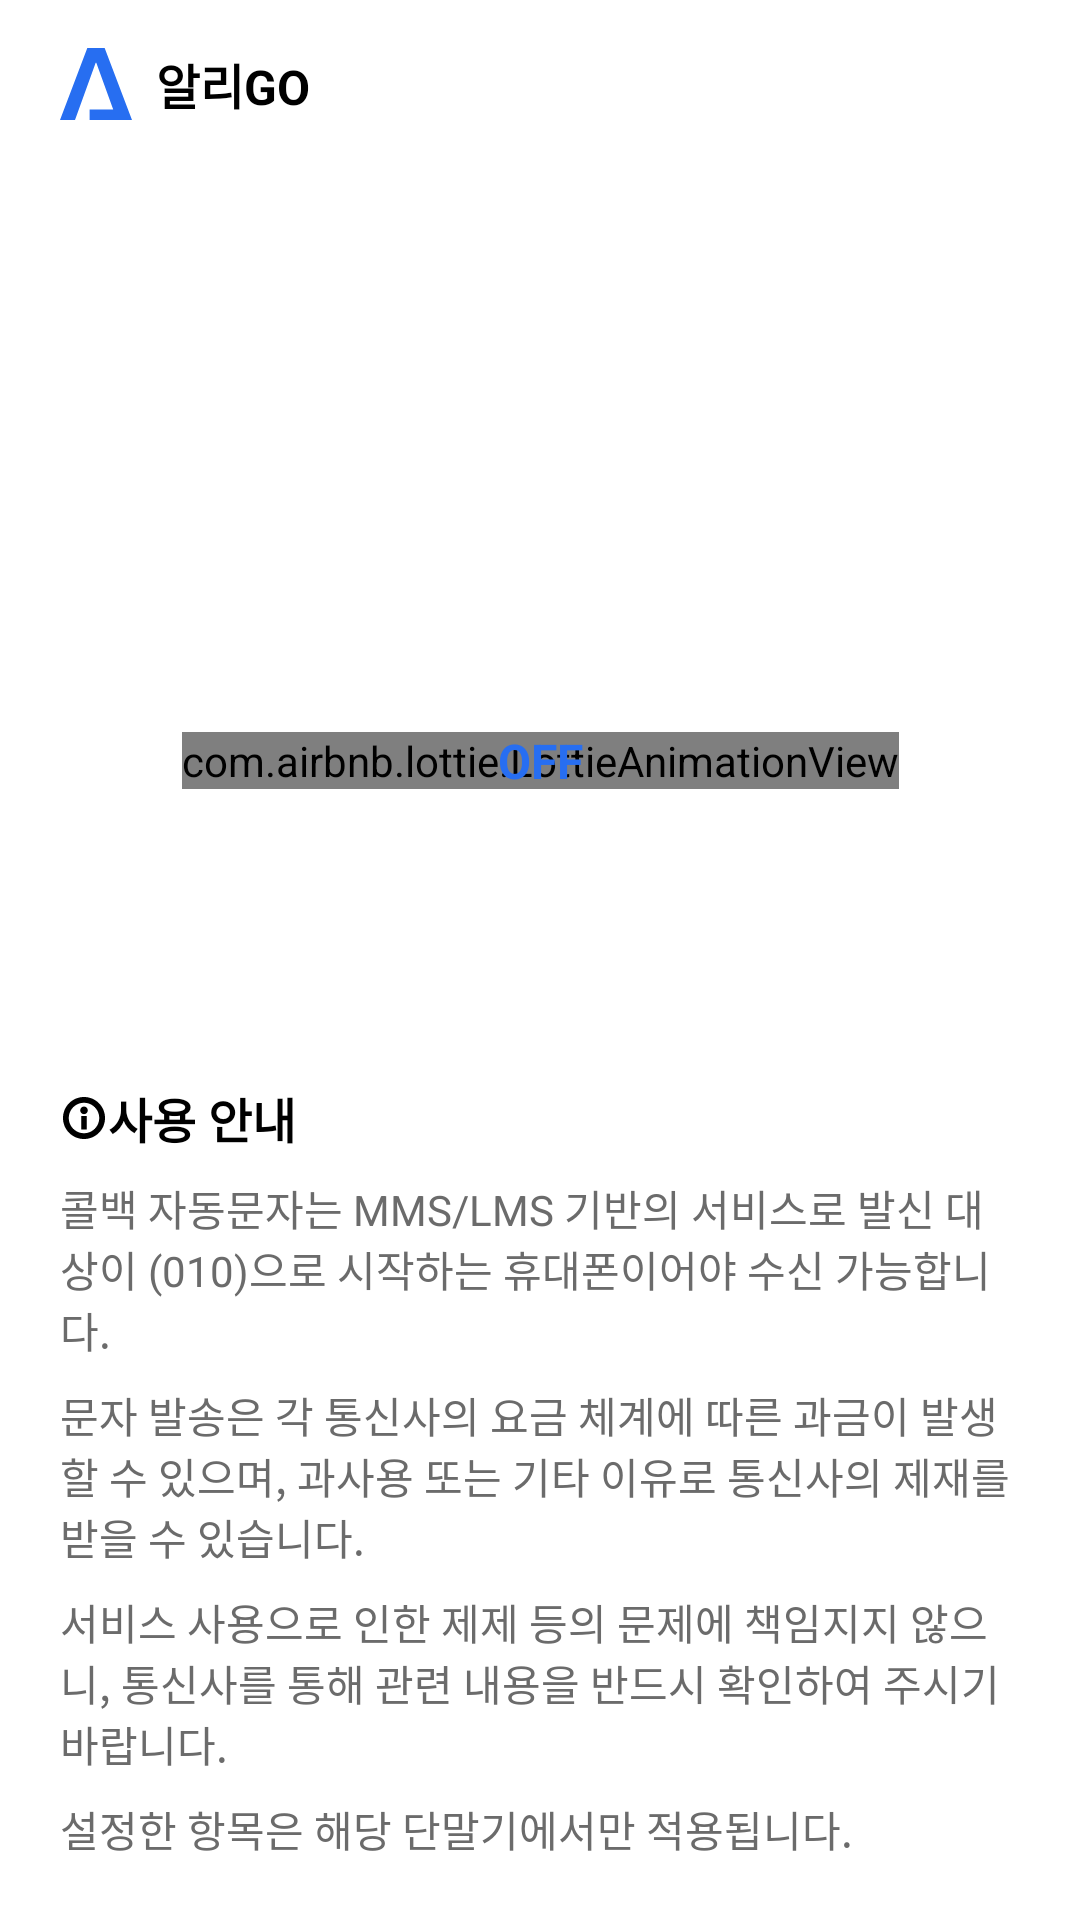

Named icons in this screenshot (1080×1920) and their bounding boxes, box(x1, y1, x2, y2):
info: box(63, 1097, 105, 1139)
